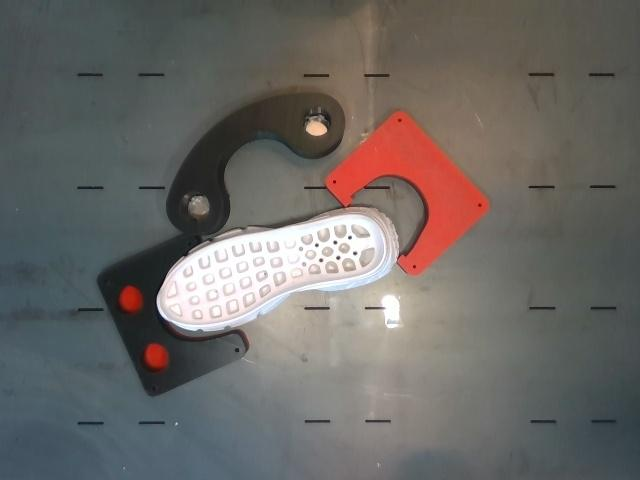shoes: (157, 216, 385, 325)
